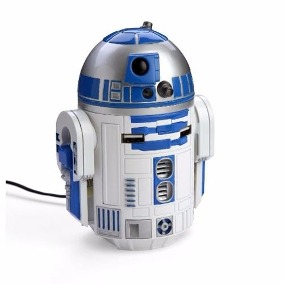r2d2: (56, 20, 214, 251)
